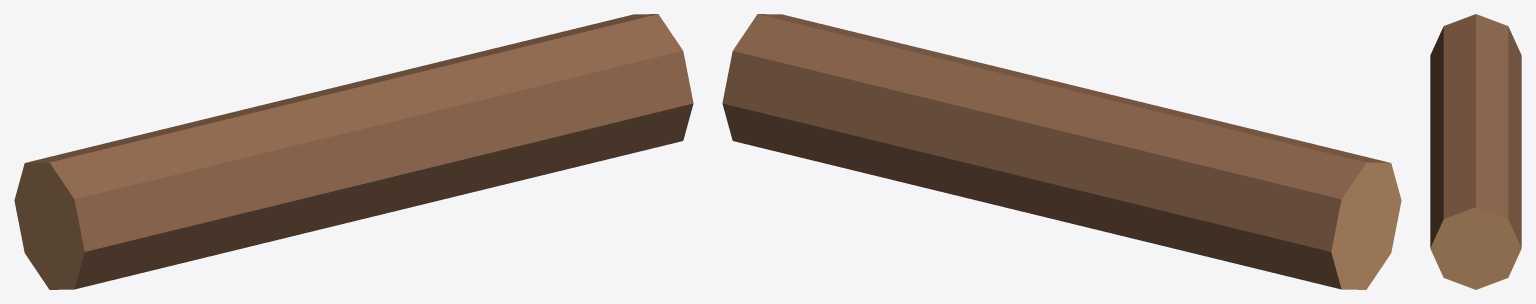
Rendered from fallen_tree.obj.
3 views of the same model, side by side, from view 1: azimuth 30°, elevation 25°; view 2: azimuth 150°, elevation 25°; view 3: azimuth 270°, elevation 25° (orthographic). The views are drawn at different scales.
Visible parts, largest first — view 1: pCylinder1; view 2: pCylinder1; view 3: pCylinder1.
Boxes of the visible parts, x1,y1,x2,y2 form: pCylinder1: [14, 14, 693, 289]; pCylinder1: [722, 14, 1401, 289]; pCylinder1: [1430, 14, 1521, 289].
Bounding box in the file's own units: 1 × 0.2 × 0.2.
Materials: 1 (1 with a texture image).
